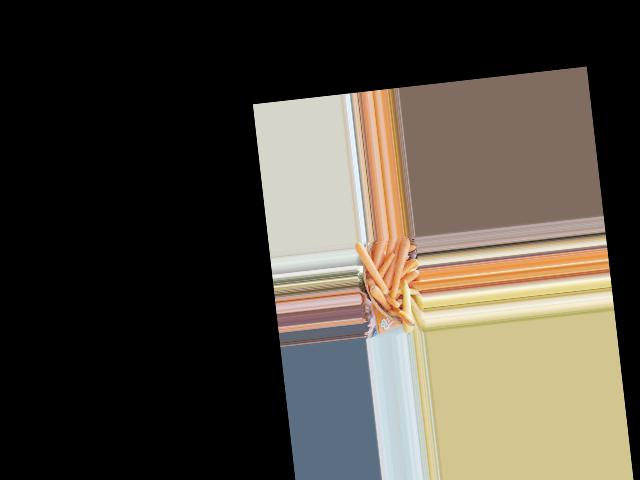carrot: (367, 285, 391, 317)
